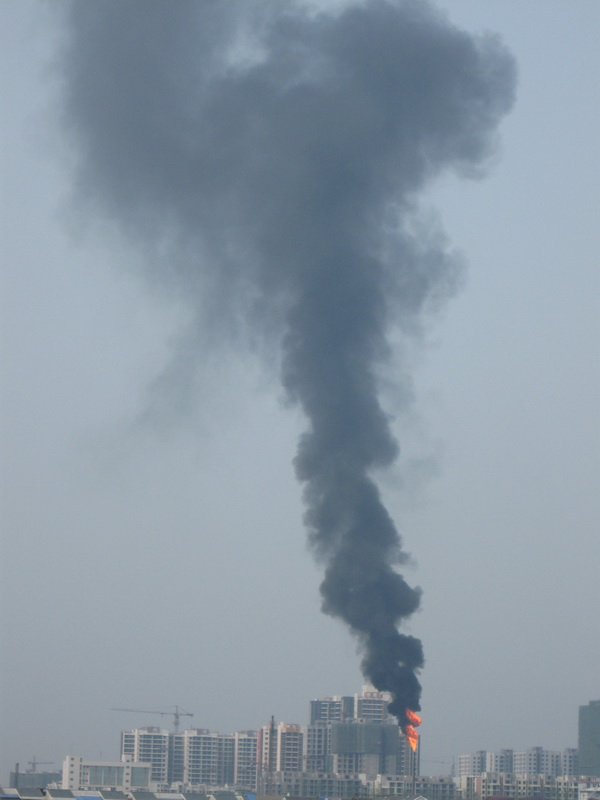dust: (335, 460, 454, 747)
